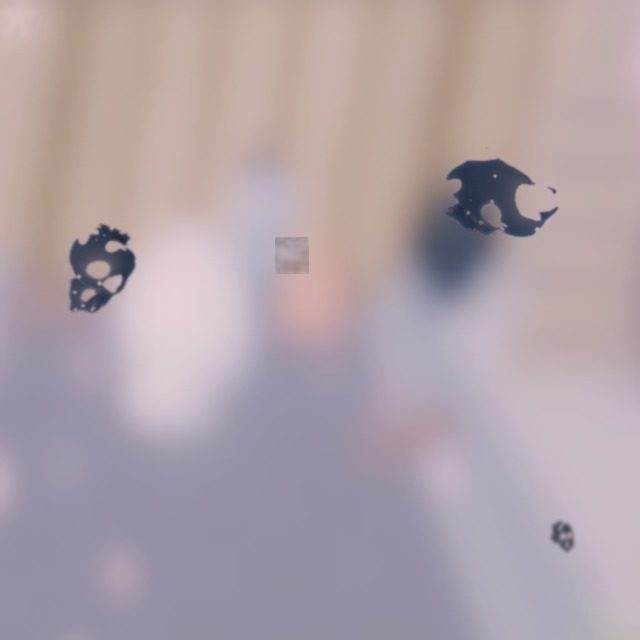urso_branco: (275, 237, 309, 274)
urso_preto: (410, 122, 587, 276), (43, 215, 148, 333), (544, 518, 583, 559)
